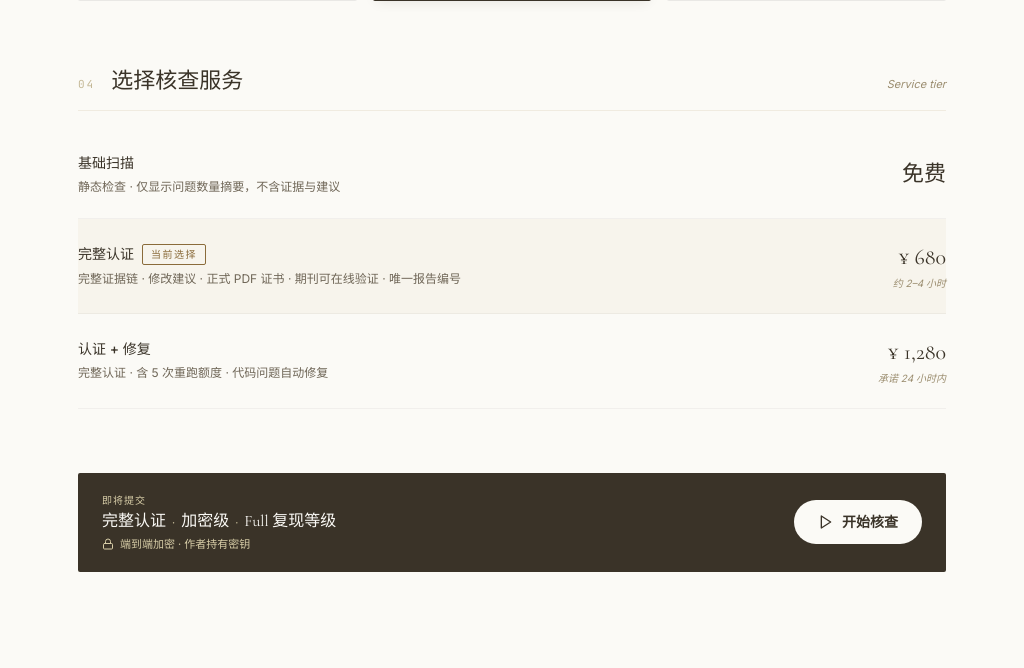
Scenario: SubmitPage › validates files before creating a case
(page scrolled)
Step 1. Click the button "开始核查" → (858, 522), box [794,500,922,544]
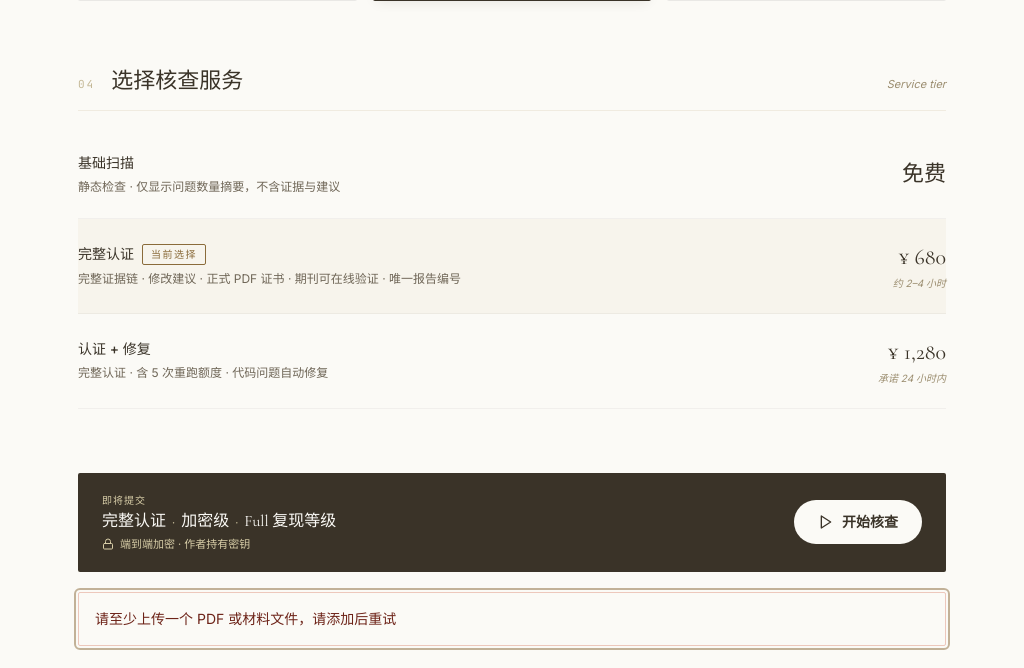
expect the message shows "请至少上传一个 PDF 或材料文件": met, box [95,610,396,627]
